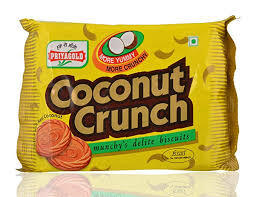VEG: (188, 36, 198, 46)
